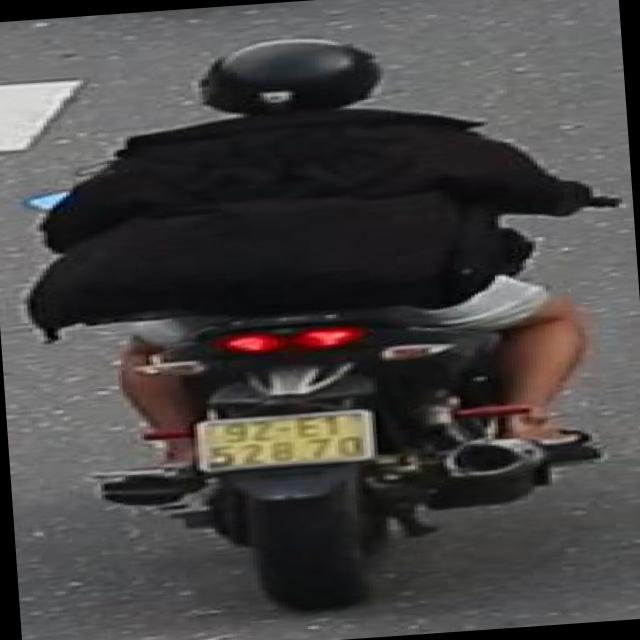LP: (188, 401, 386, 477)
helmet: (190, 22, 386, 121)
